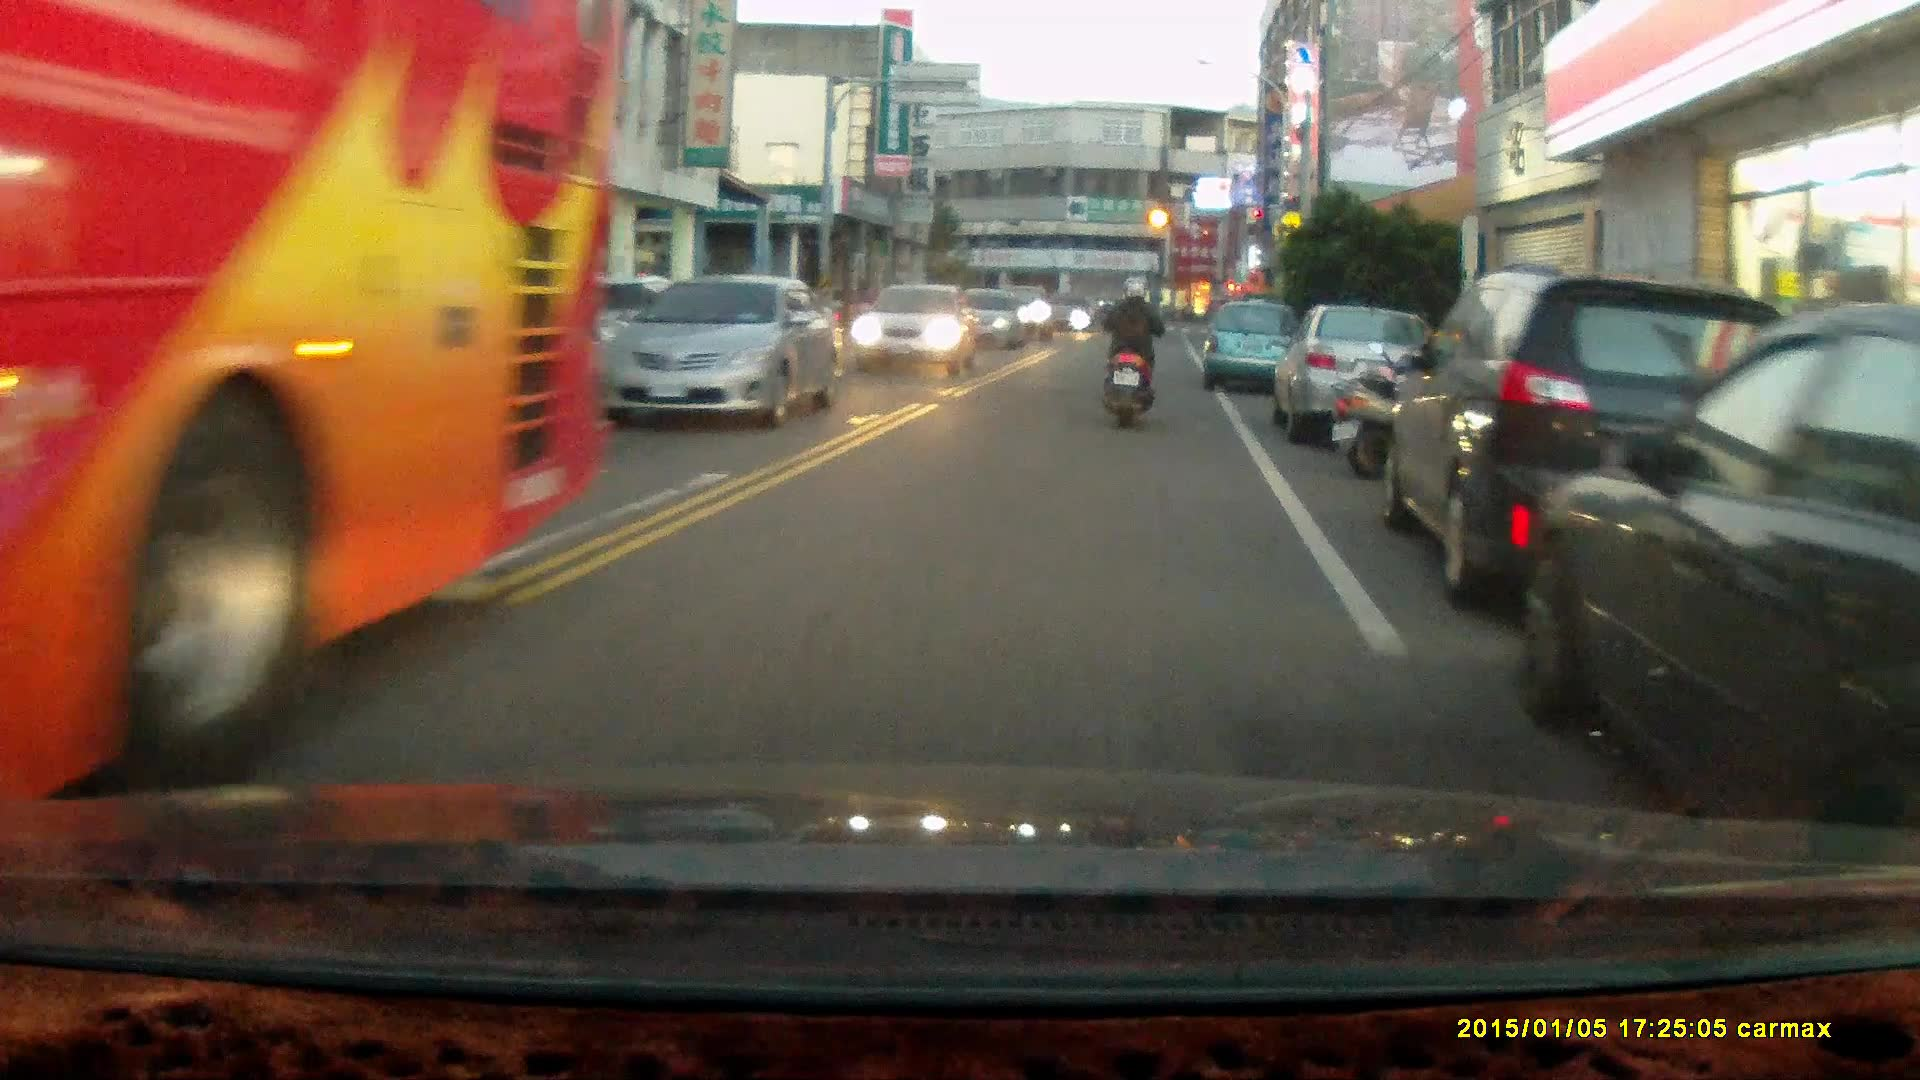rider: (1095, 275, 1163, 432)
vehicle: (1, 9, 613, 805), (1517, 306, 1920, 839), (1381, 265, 1862, 608), (595, 272, 848, 426), (1278, 304, 1452, 452), (853, 284, 980, 377), (1200, 301, 1303, 400), (944, 286, 1023, 353)
